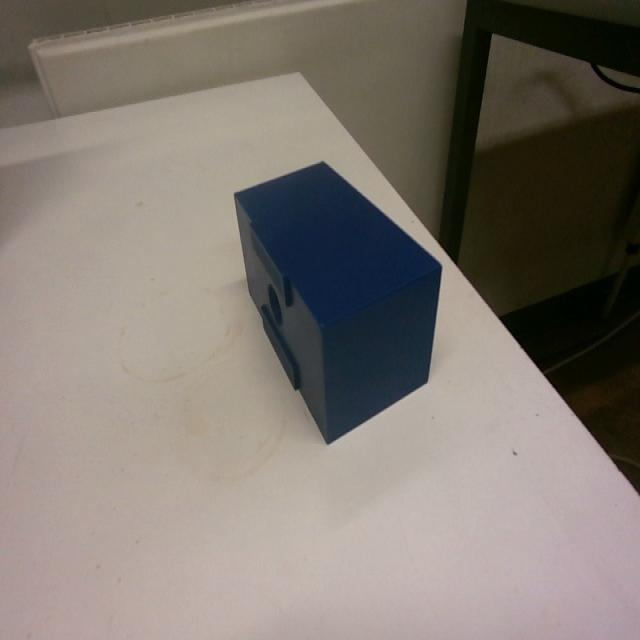Blue Cuboid: (230, 156, 444, 445)
